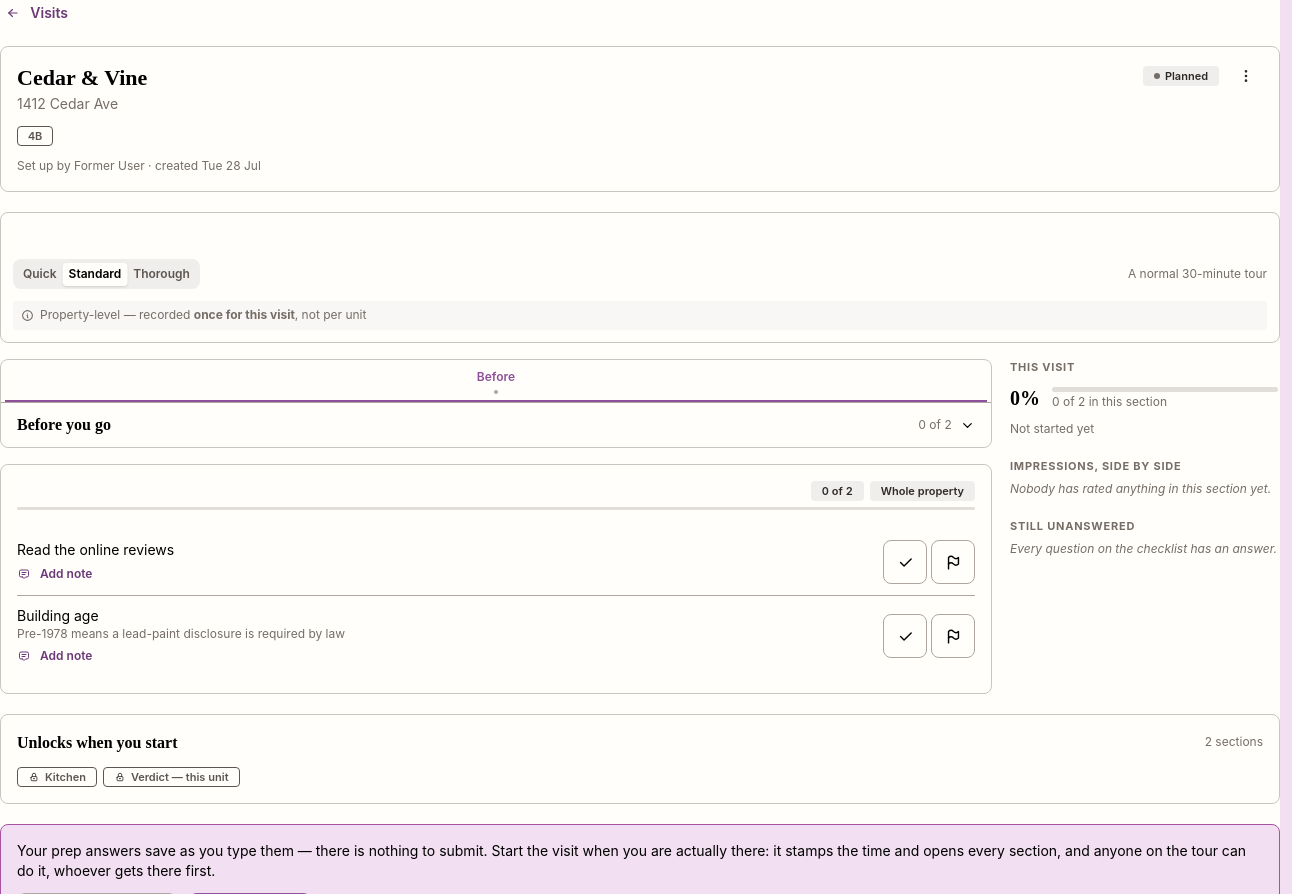
Test: VisitDetailPage permissions › disables cancel and delete for a member who is neither creator nor Owner
Step 1. Click the button named "Visit actions" → (1246, 76), box [1229,63,1263,89]
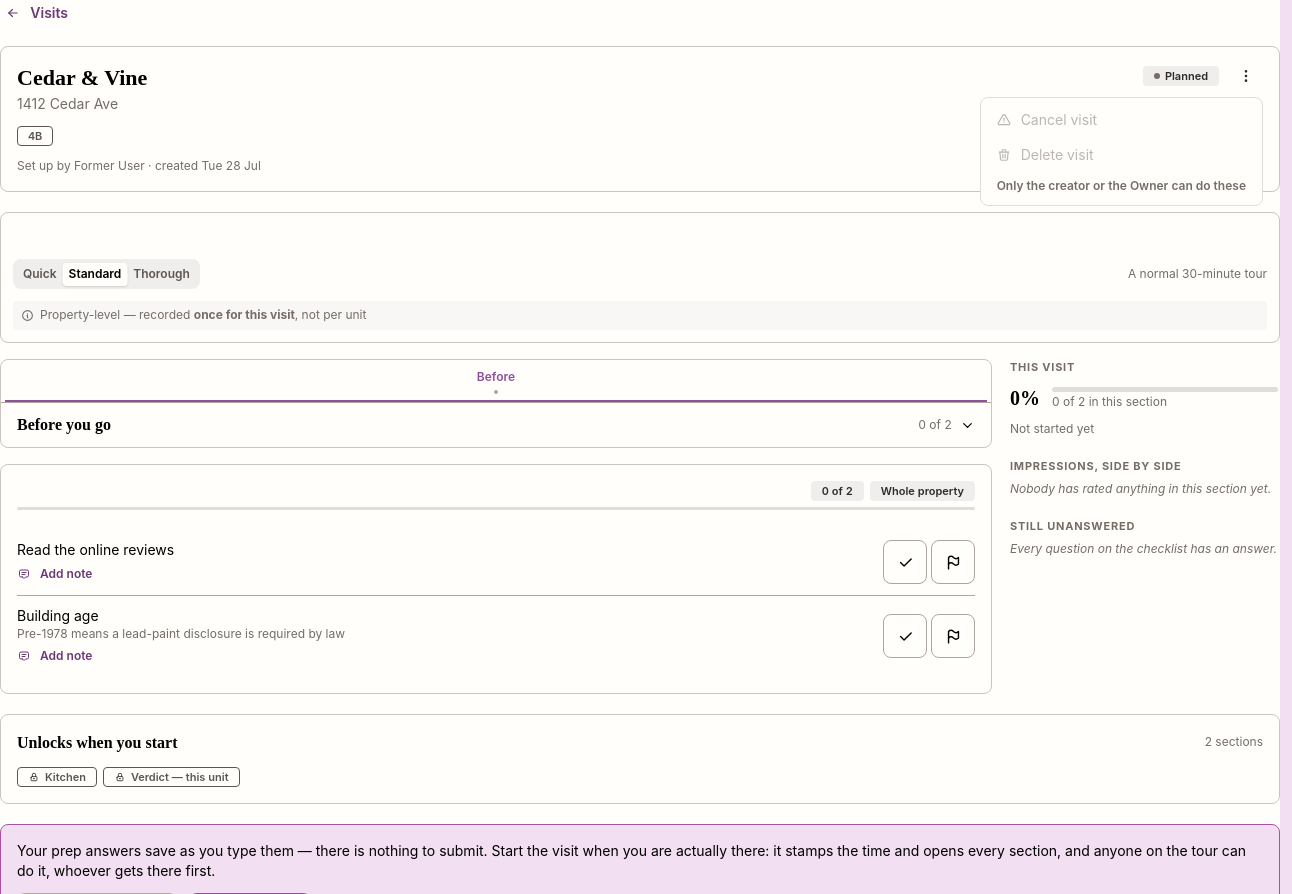
Result: the text "Only the creator or the Owner can do these" is shown at [997,178,1246,193]
